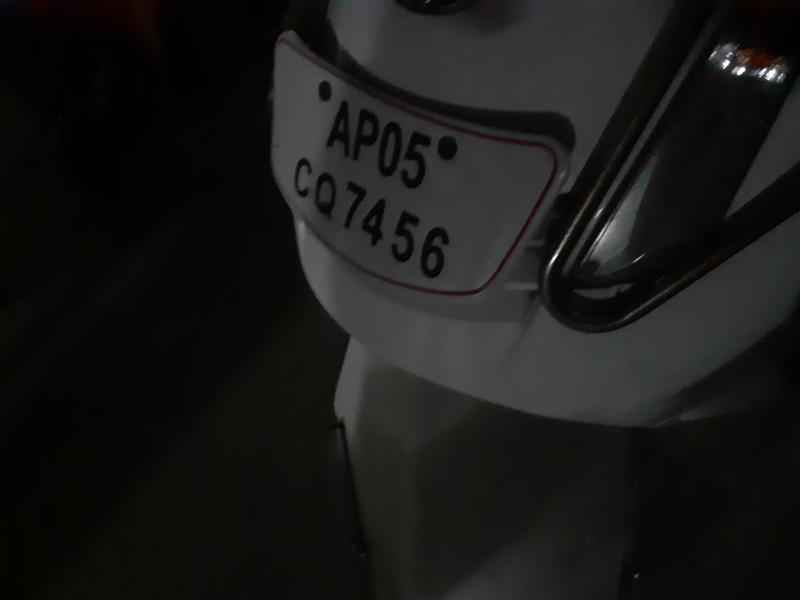numberplate: (273, 42, 524, 300)
